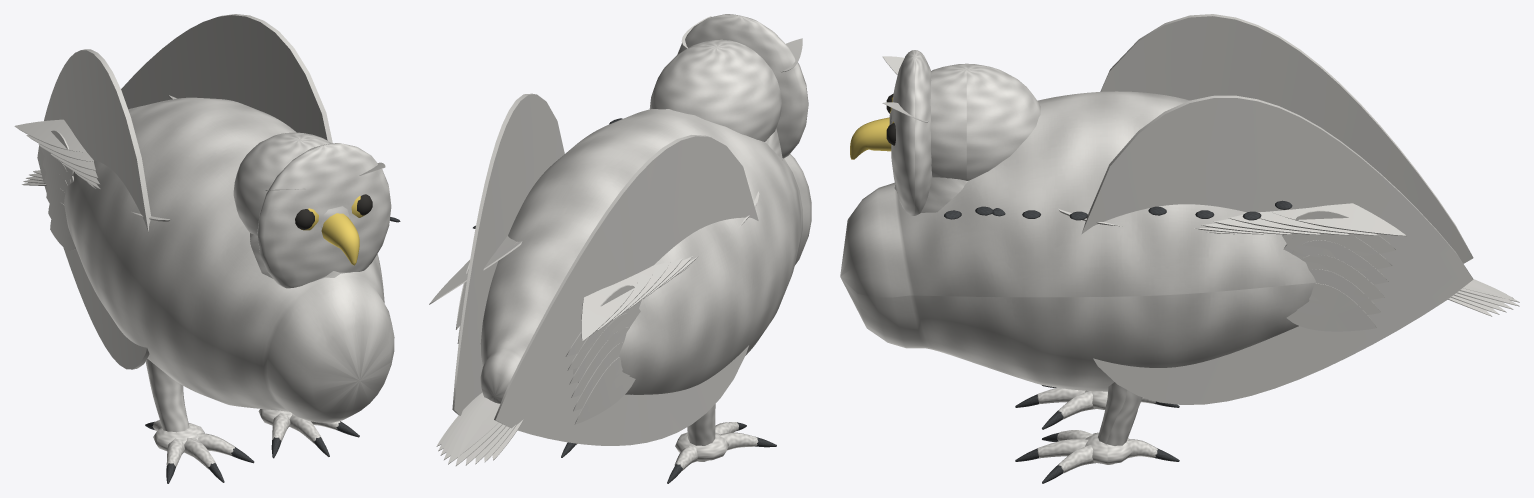
File: bird-owl.glb
The picture shows the model from 3 angles, left to right: view 1: azimuth 30°, elevation 25°; view 2: azimuth 150°, elevation 25°; view 3: azimuth 270°, elevation 25°; orthographic projection. The views are drawn at different scales.
Visible parts, largest first — view 1: snowy-owl; view 2: snowy-owl; view 3: snowy-owl.
Part boxes in pixels (x1,y1,x2,y2): snowy-owl: (14, 14, 400, 483); snowy-owl: (429, 14, 811, 483); snowy-owl: (840, 14, 1519, 483).
Bounding box in the file's own units: 0.2698 × 0.4324 × 0.7009.
Materials: 4 (2 with a texture image).
